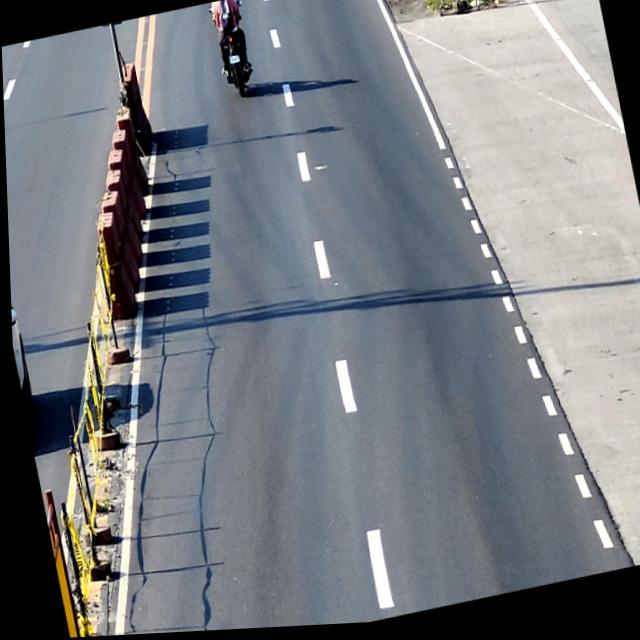License-Plate: (228, 56, 240, 67)
Motorcycle: (208, 1, 260, 106)
